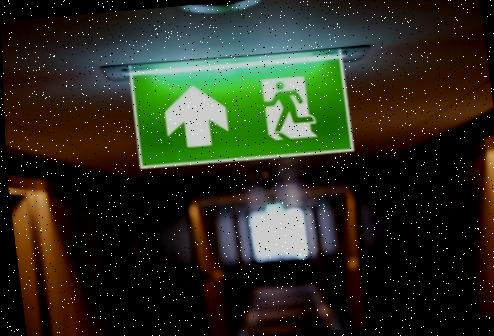emergency_exit: (128, 50, 356, 170)
